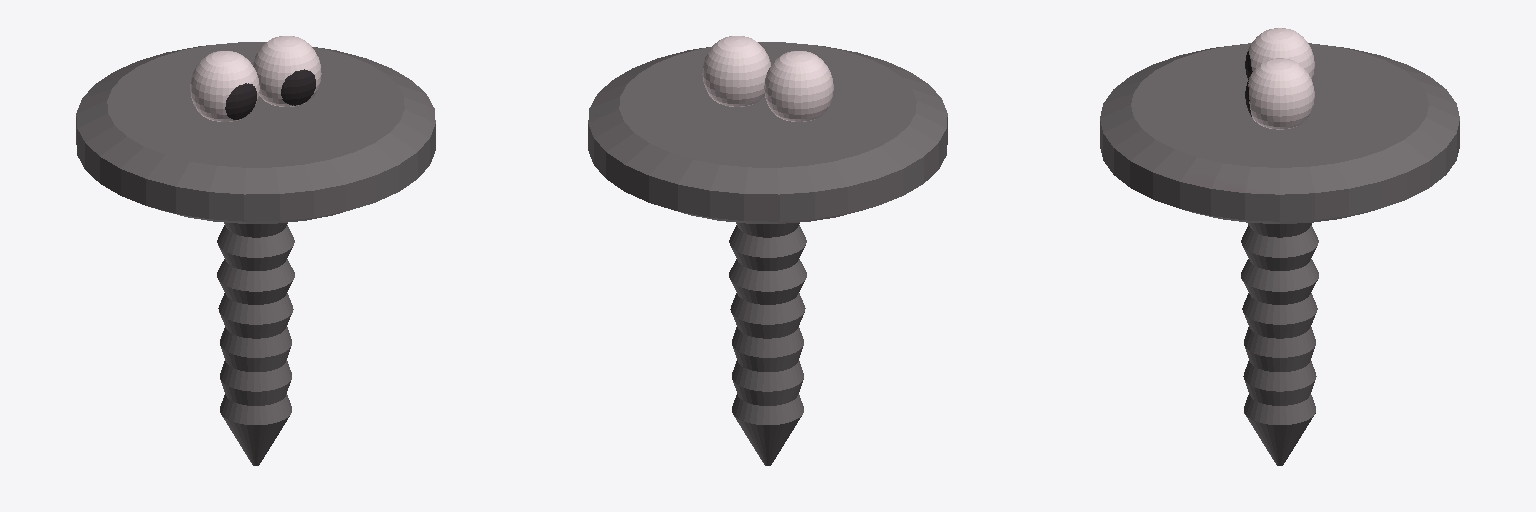
The picture shows the model from 3 angles: view 1: azimuth 30°, elevation 25°; view 2: azimuth 150°, elevation 25°; view 3: azimuth 270°, elevation 25°; orthographic projection.
Visible parts, largest first — view 1: 円柱, 球, 球.001_球.002; view 2: 円柱, 球, 球.001_球.002; view 3: 円柱, 球.001_球.002, 球.
Part boxes in pixels (left/top/right/bottom): 円柱: left=76, top=42, right=435, bottom=465; 球: left=190, top=51, right=259, bottom=121; 球.001_球.002: left=253, top=36, right=321, bottom=106; 円柱: left=588, top=42, right=947, bottom=465; 球: left=764, top=51, right=833, bottom=121; 球.001_球.002: left=702, top=36, right=770, bottom=106; 円柱: left=1100, top=43, right=1459, bottom=465; 球.001_球.002: left=1245, top=58, right=1314, bottom=129; 球: left=1245, top=28, right=1314, bottom=78.
Size of the model in its own units: 2 by 2.55 by 2.
Materials: 1 (1 with a texture image).